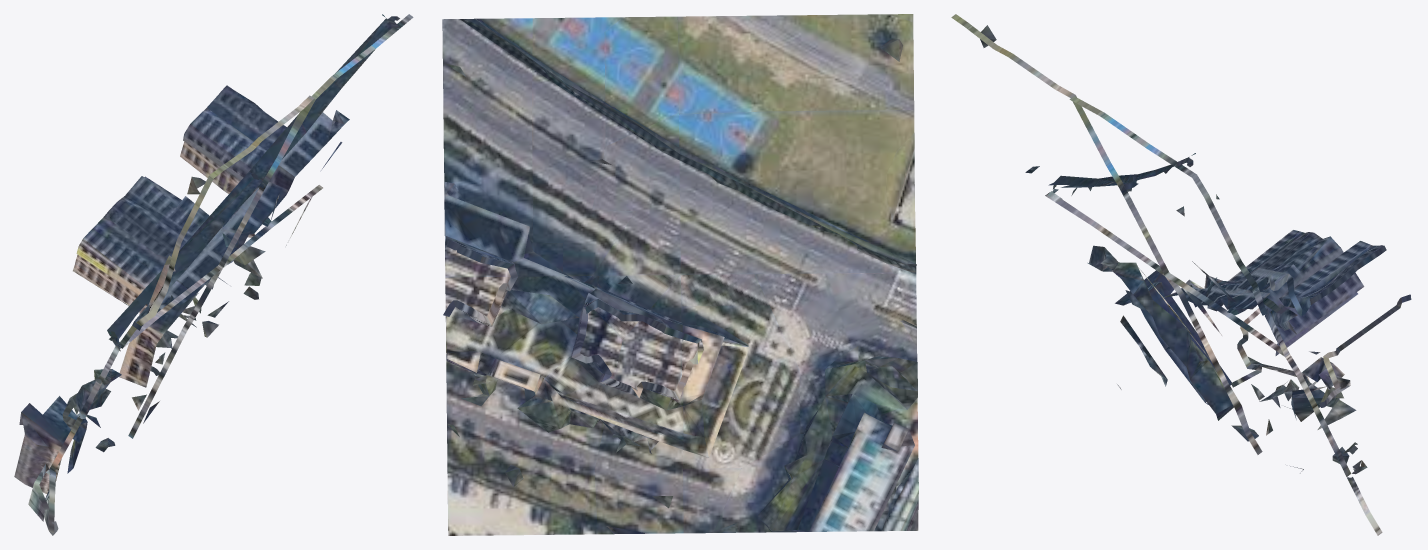
The picture shows the model from 3 angles, left to right: view 1: azimuth 30°, elevation 25°; view 2: azimuth 150°, elevation 25°; view 3: azimuth 270°, elevation 25°; orthographic projection. The views are drawn at different scales.
Size of the model in its own units: 153 by 145 by 141.
2 materials, 2 textured.
